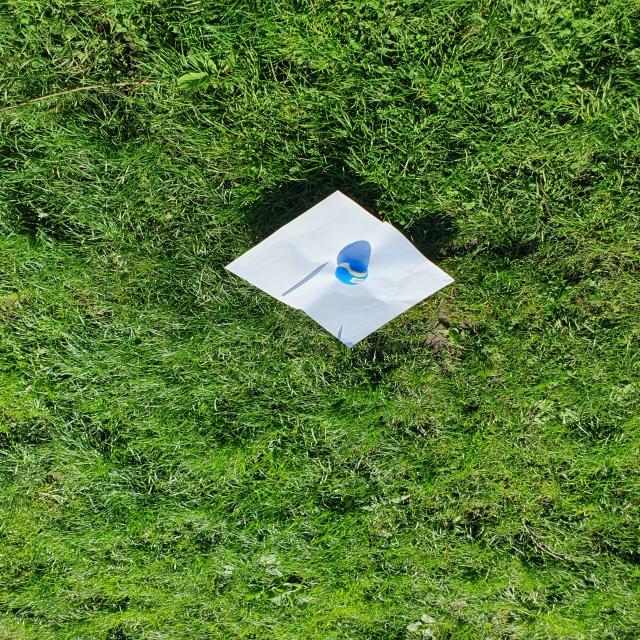blue: (335, 260, 368, 286)
